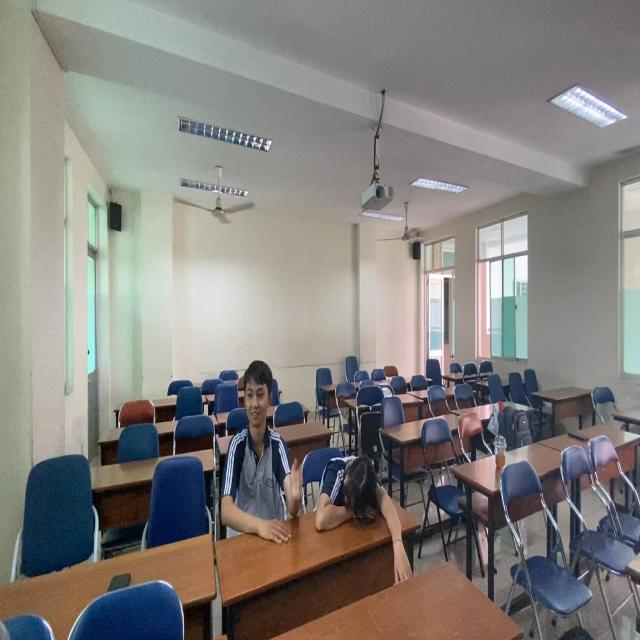sleep: (311, 438, 405, 550)
